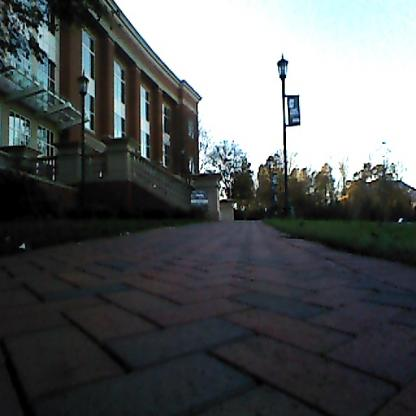Edge: (280, 233, 416, 294)
Sidewalk: (0, 222, 416, 416)
